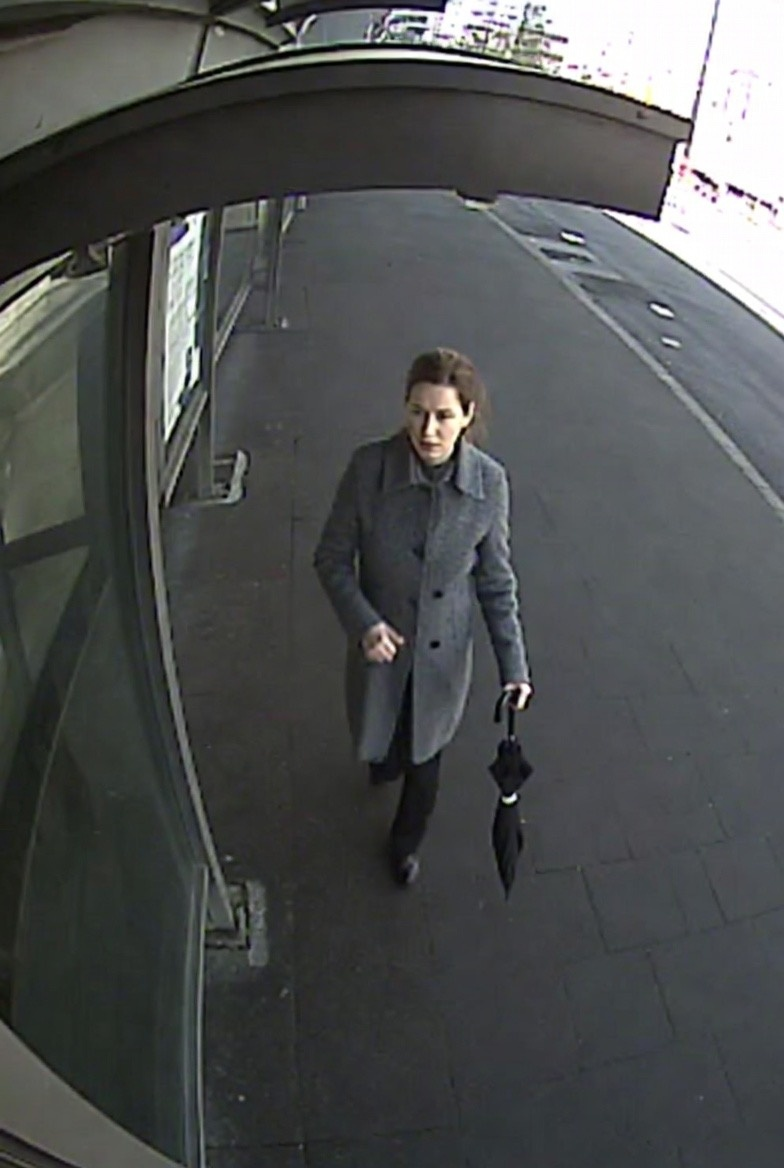person: (328, 323, 493, 904)
umbrella: (490, 681, 537, 909)
